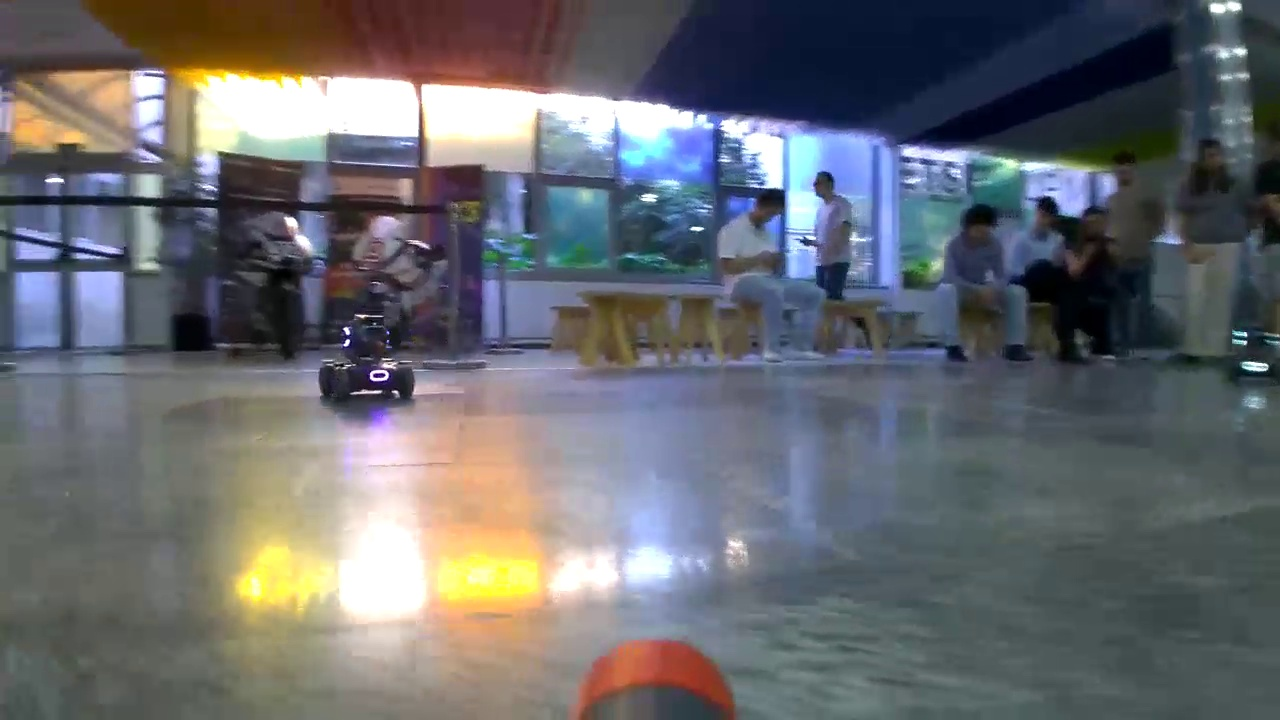robot: (318, 312, 415, 400), (1228, 322, 1280, 375)
